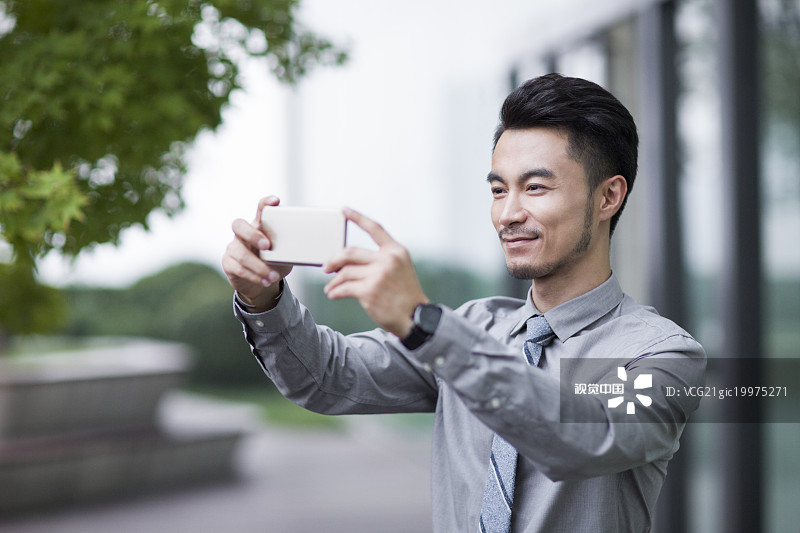taking photos: (207, 181, 449, 345)
